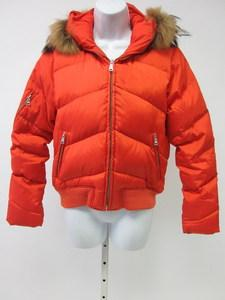C_jacket: (2, 4, 220, 239)
